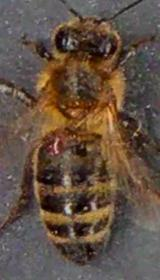varroa_mite: (38, 124, 68, 166)
